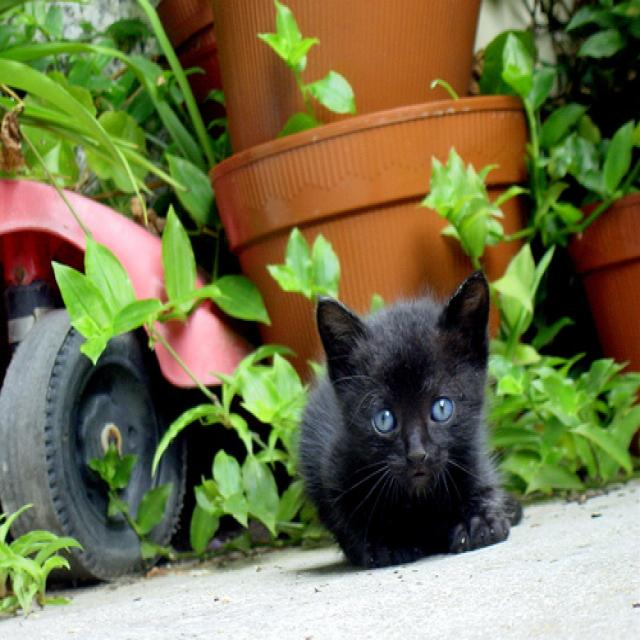motor: (2, 173, 262, 587)
